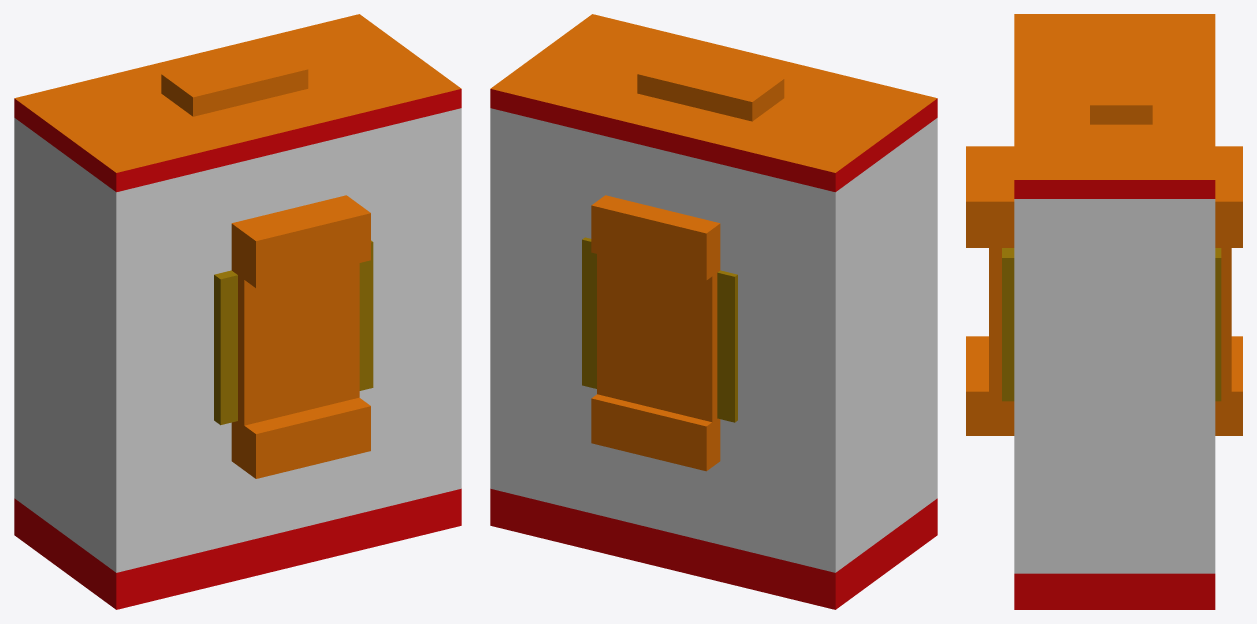
The model's file is Batey.fbx.
The picture shows the model from 3 angles, left to right: view 1: azimuth 30°, elevation 25°; view 2: azimuth 150°, elevation 25°; view 3: azimuth 270°, elevation 25°; orthographic projection.
Parts seen in each view (by area): view 1: Cube; view 2: Cube; view 3: Cube.
Boxes of the visible parts, x1=… form: Cube: x1=14, y1=14, x2=461, y2=609; Cube: x1=490, y1=14, x2=937, y2=609; Cube: x1=966, y1=14, x2=1242, y2=609.
Bounding box in the file's own units: 165 × 209 × 117.
